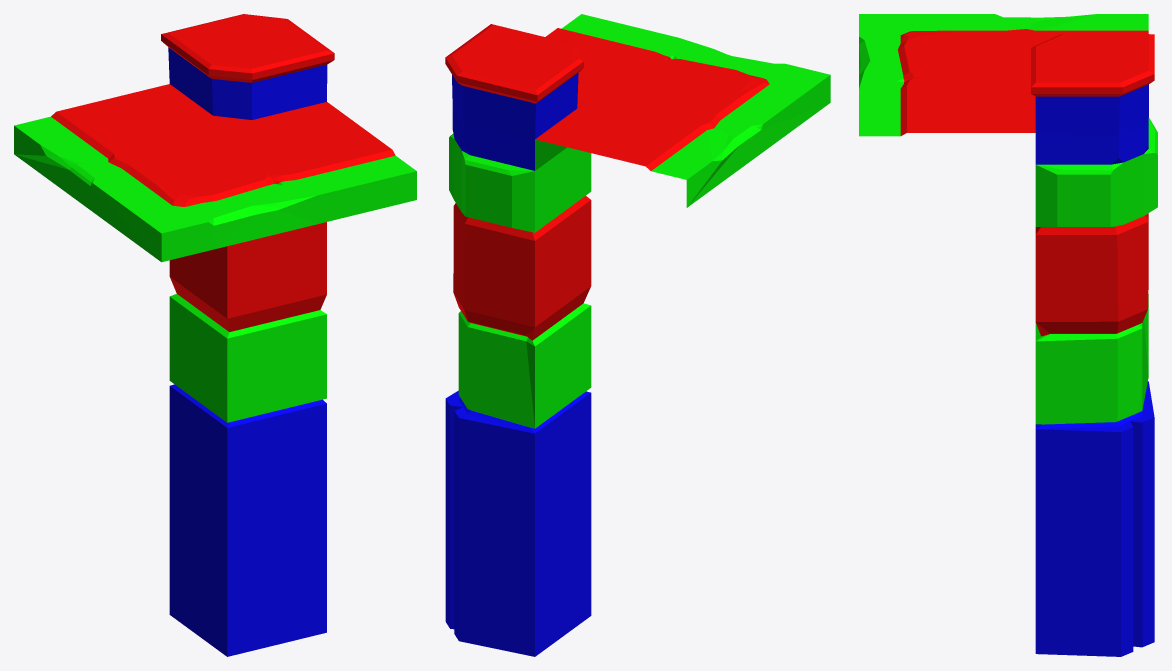
The model's file is dungeon_base_interiorCorner.fbx.
3 renders of one model, left to right at view 1: azimuth 30°, elevation 25°; view 2: azimuth 150°, elevation 25°; view 3: azimuth 270°, elevation 25°, orthographic. The views are drawn at different scales.
Parts seen in each view (by area): view 1: dungeon_base_interiorCorner; view 2: dungeon_base_interiorCorner; view 3: dungeon_base_interiorCorner.
Boxes of the visible parts, x1=… form: dungeon_base_interiorCorner: x1=14, y1=14, x2=416, y2=656; dungeon_base_interiorCorner: x1=445, y1=14, x2=830, y2=656; dungeon_base_interiorCorner: x1=859, y1=14, x2=1157, y2=656.
Size of the model in its own units: 208 by 206 by 435.
